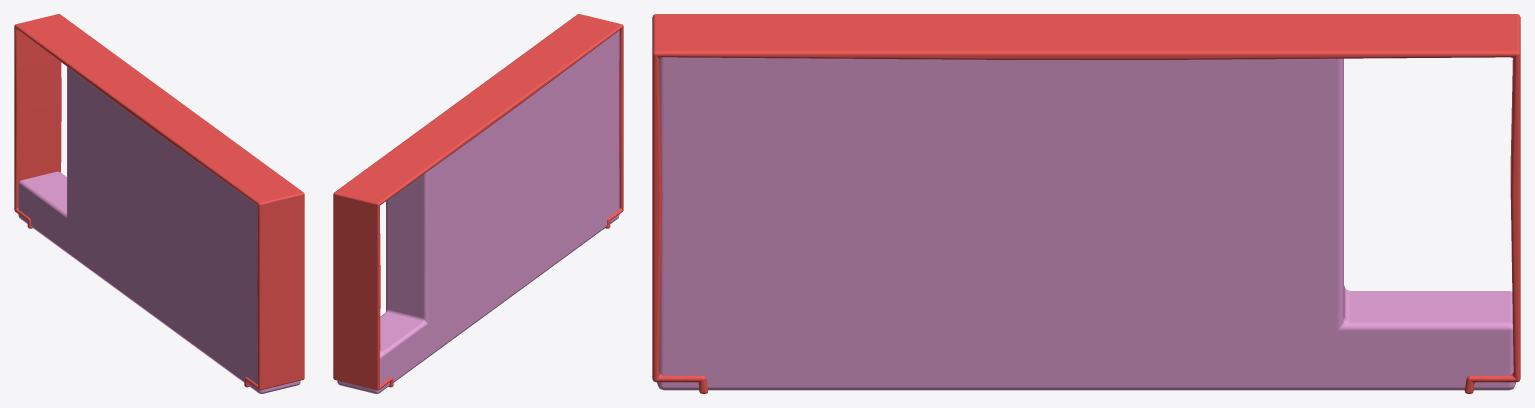
The model's file is wall05.fbx.
3 views of the same model, side by side, from view 1: azimuth 30°, elevation 25°; view 2: azimuth 150°, elevation 25°; view 3: azimuth 270°, elevation 25° (orthographic). The views are drawn at different scales.
Visible parts, largest first — view 1: png4, wallOutside.002; view 2: png4, wallOutside.002; view 3: png4, wallOutside.002.
Boxes of the visible parts, <box> form: png4: <box>18,67,300,393</box>; wallOutside.002: <box>14,14,304,390</box>; png4: <box>337,30,619,393</box>; wallOutside.002: <box>333,14,623,390</box>; png4: <box>657,57,1515,390</box>; wallOutside.002: <box>652,14,1520,393</box>.
Bounding box in the file's own units: 218 × 878 × 2014.
